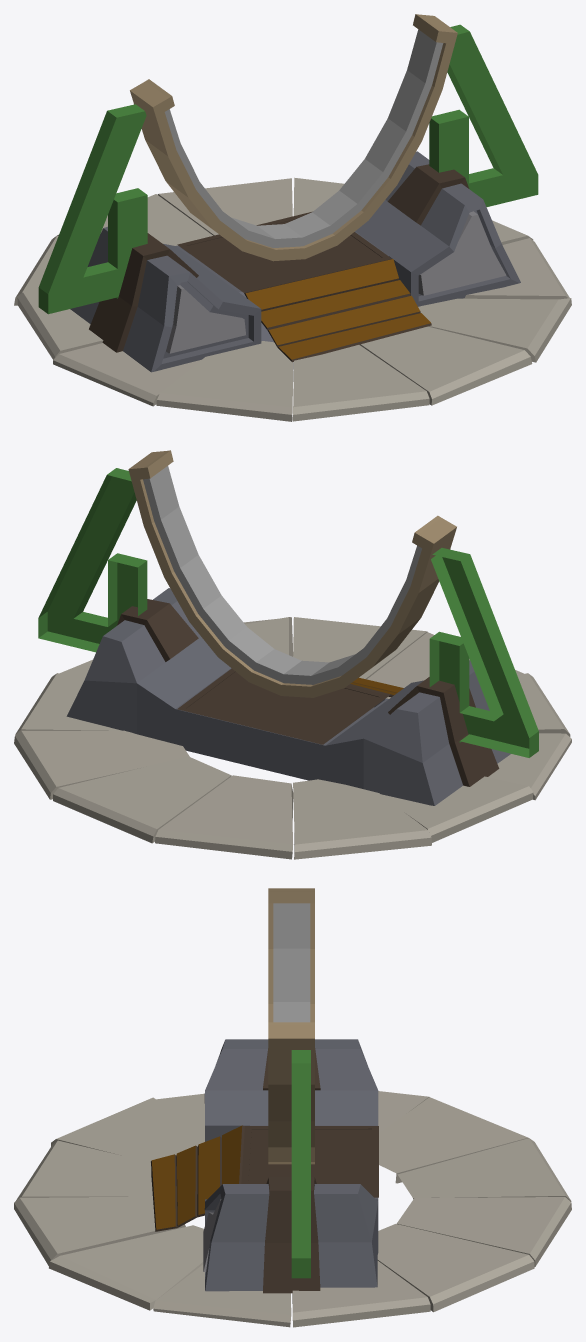
The picture shows the model from 3 angles, top to bottom: view 1: azimuth 30°, elevation 25°; view 2: azimuth 150°, elevation 25°; view 3: azimuth 270°, elevation 25°; orthographic projection.
Parts seen in each view (by area): view 1: Circle.003, Plane.002; view 2: Circle.003, Plane.002; view 3: Circle.003, Plane.002.
Boxes of the visible parts, <box> form: Circle.003: <box>14,14,571,421</box>; Plane.002: <box>38,24,538,314</box>; Circle.003: <box>14,450,571,859</box>; Plane.002: <box>38,468,538,757</box>; Circle.003: <box>14,888,571,1327</box>; Plane.002: <box>291,1050,310,1278</box>.
Bounding box in the file's own units: 166 × 81.46 × 162.
